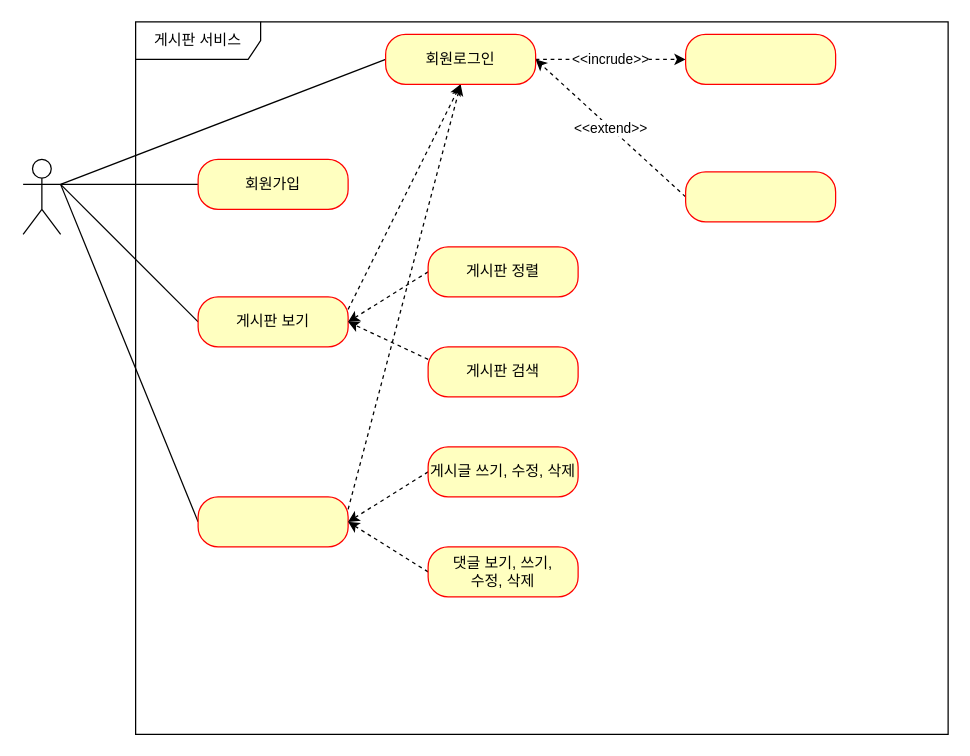
Image size: 970x756. Some labels were removed from this diagram. The shapes that lost their labels are listed below. From the top down, each one's centre as x and y in pixels, then its label:
[760,58]: 인증
[41,196]: 이용자
[760,196]: 로그인 실패
[272,521]: 게시글 보기
